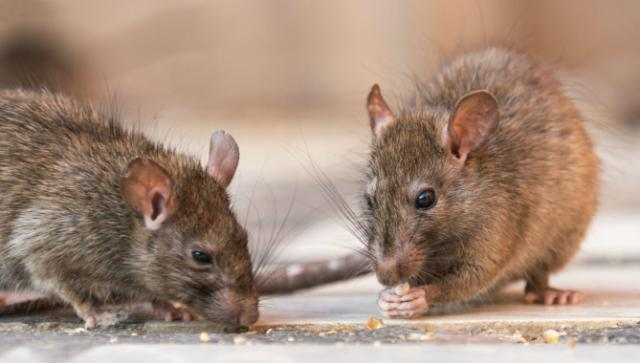rat: (334, 30, 620, 324), (1, 68, 286, 346)
